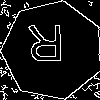R: (27, 25, 65, 71)
